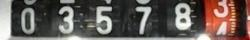digits: (213, 0, 231, 36), (174, 2, 194, 30), (134, 5, 152, 34), (95, 5, 112, 33), (57, 5, 74, 33), (20, 7, 36, 35)
